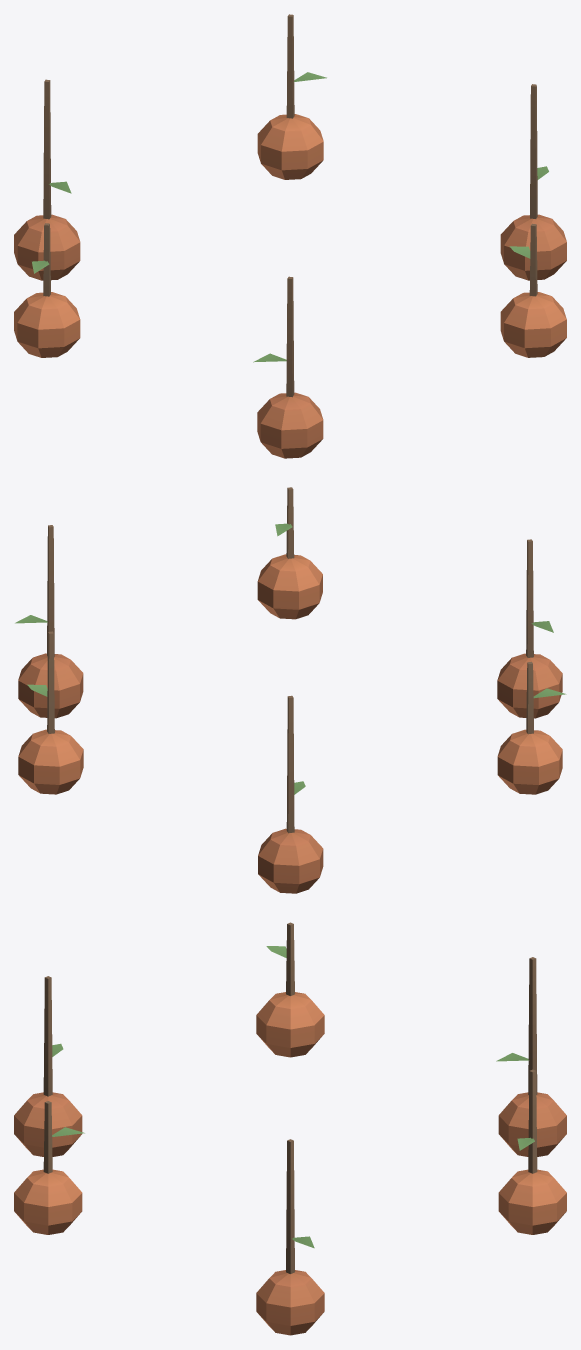
The model's file is fruit_layer.glb.
3 renders of one model, top to bottom at view 1: azimuth 30°, elevation 25°; view 2: azimuth 150°, elevation 25°; view 3: azimuth 270°, elevation 25°, orthographic.
Parts seen in each view (by area): view 1: fruit_layer; view 2: fruit_layer; view 3: fruit_layer.
Part boxes in pixels (x1,y1,x2,y2): fruit_layer: (14,14,566,458); fruit_layer: (15,487,566,893); fruit_layer: (14,922,566,1335).
Size of the model in its own units: 1.66 by 0.5893 by 1.46.
Materials: 1 (1 with a texture image).
